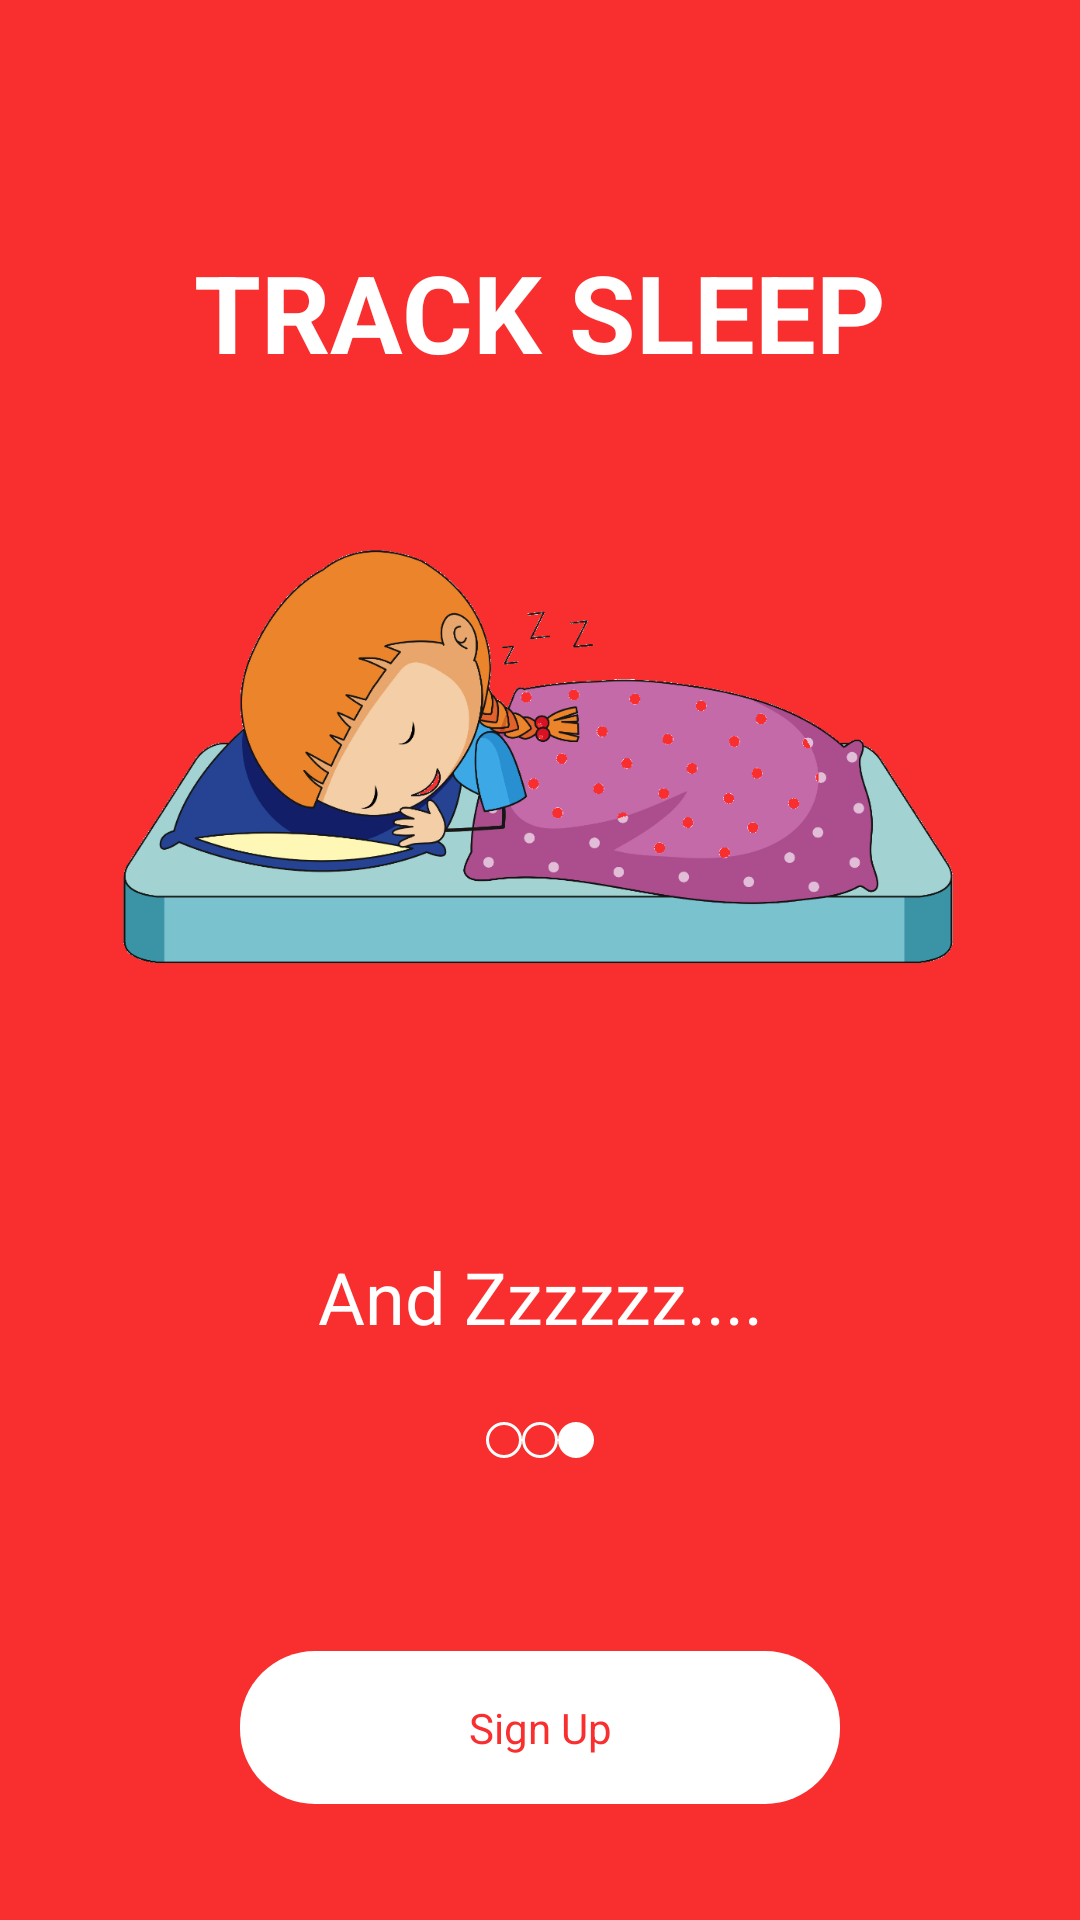

Locate icon controls on the screen. Image size 1080px×1920px, boxes as box(x1, y1, x2, y2).
circle: box(558, 1422, 594, 1458)
circle hollow: box(486, 1422, 522, 1458), box(522, 1422, 558, 1458)
